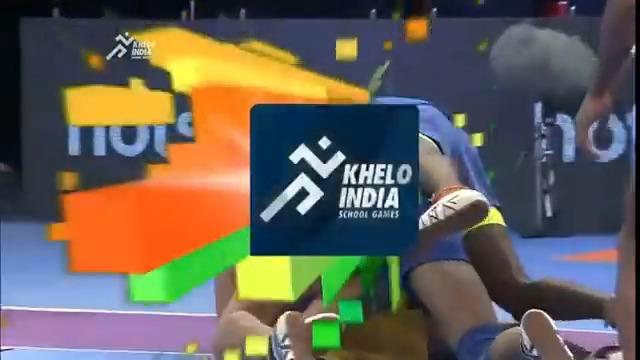Player: (373, 94, 625, 357)
referee: (485, 19, 634, 237), (572, 0, 637, 358)
